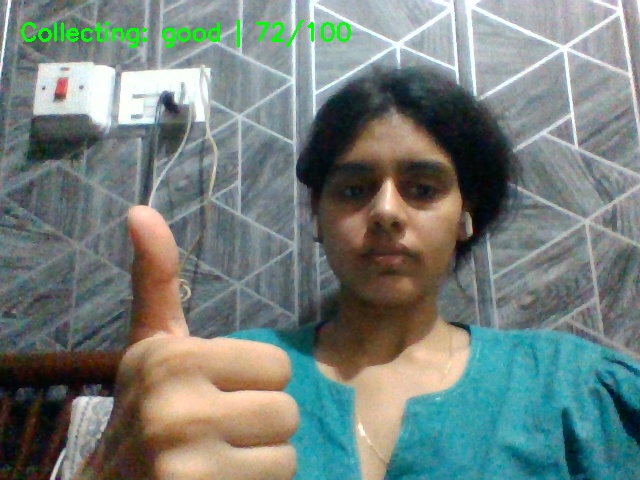good: (101, 200, 378, 480)
